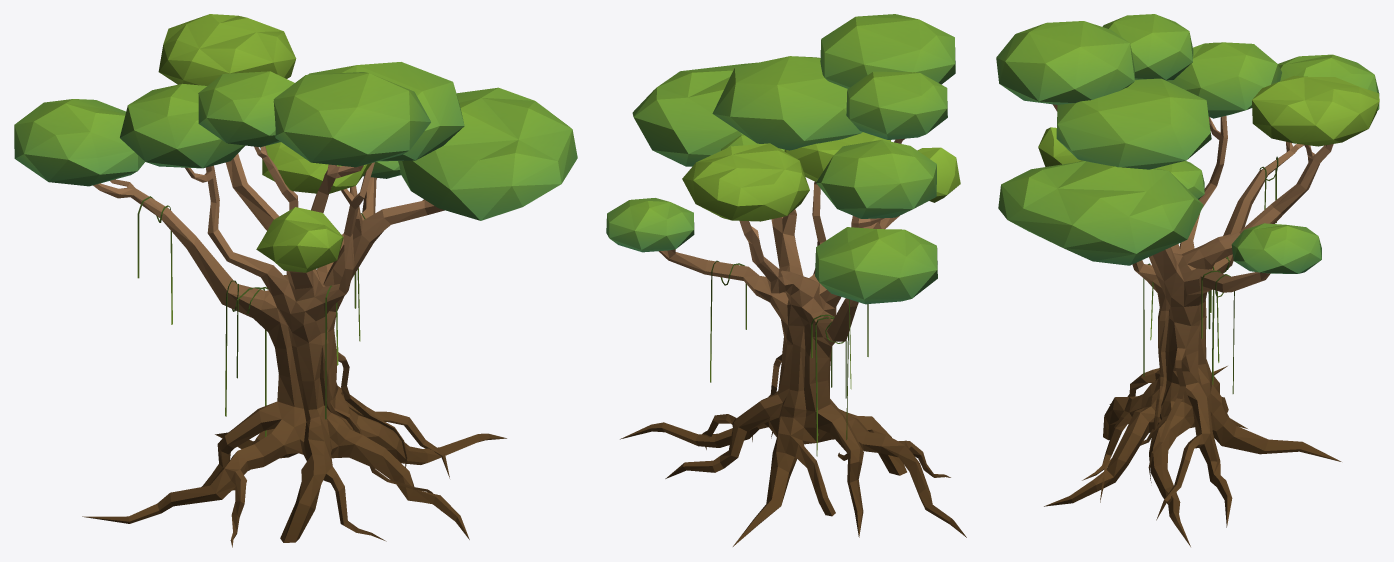
File: ZLP_Plant_B_1.FBX
3 views of the same model, side by side, from view 1: azimuth 30°, elevation 25°; view 2: azimuth 150°, elevation 25°; view 3: azimuth 270°, elevation 25° (orthographic). The views are drawn at different scales.
Parts seen in each view (by area): view 1: ZLP_Plant_B_1; view 2: ZLP_Plant_B_1; view 3: ZLP_Plant_B_1.
Boxes of the visible parts, x1=… form: ZLP_Plant_B_1: x1=14, y1=14, x2=577, y2=547; ZLP_Plant_B_1: x1=606, y1=14, x2=966, y2=546; ZLP_Plant_B_1: x1=996, y1=14, x2=1379, y2=546.
Size of the model in its own units: 1127 by 1179 by 962.
